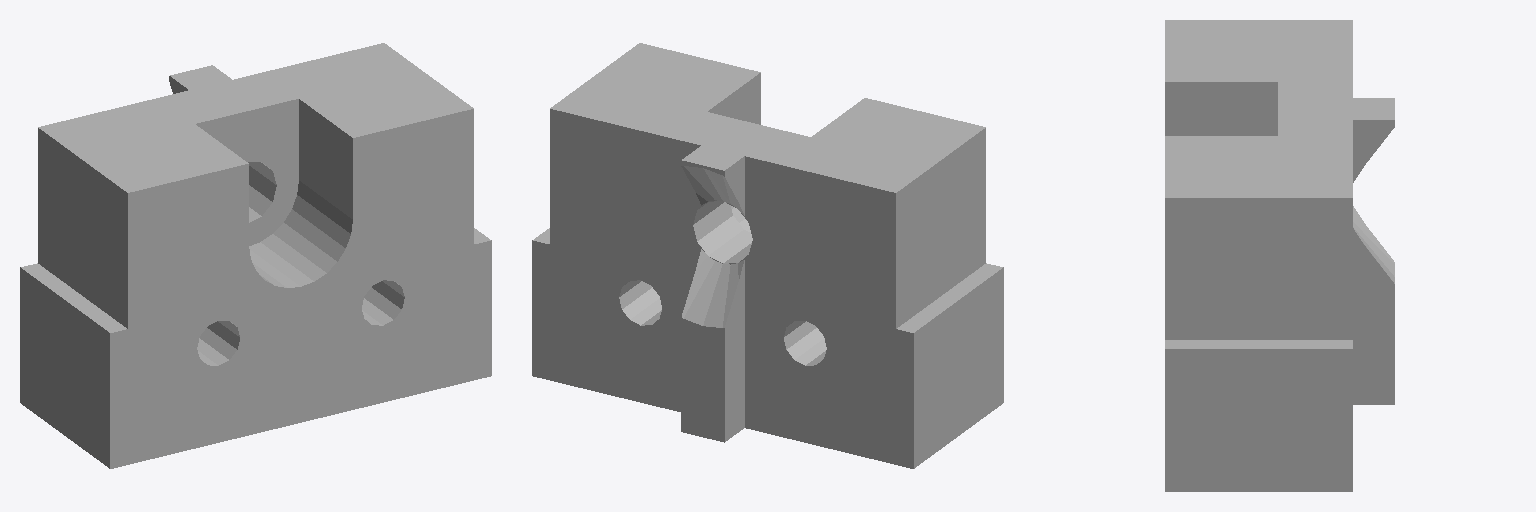
robot.urdf — root:
<?xml version='1.0' encoding='utf-8'?>
<robot name="root">
  <link name="link_001">
    <visual>
      <origin xyz="0 0 0" rpy="0 0 0" />
      <geometry>
        <mesh filename="3f989d46efecab75002a96b3d218b07a493d441307984a374a6fcfa848e1d944_scale_001.stl" scale="1.0000E+00 1.0000E+00 1.0000E+00" />
      </geometry>
      <material name="">
        <color rgba="7.50E-01 7.50E-01 7.50E-01 1" />
      </material>
    </visual>
    <collision>
      <origin xyz="0 0 0" rpy="0 0 0" />
      <geometry>
        <mesh filename="3f989d46efecab75002a96b3d218b07a493d441307984a374a6fcfa848e1d944_scale_001.stl" scale="1.0000E+00 1.0000E+00 1.0000E+00" />
      </geometry>
    </collision>
  </link>
</robot>

--- Facts derived from the render (not from the file) ---
Views: 3 orthographic renders of the robot side by side, from view 1: azimuth 30°, elevation 25°; view 2: azimuth 150°, elevation 25°; view 3: azimuth 270°, elevation 25°.
Model root with 1 links and 0 joints (none), rooted at link_001, posed every joint at zero.
Links seen in each view (by area): view 1: link_001; view 2: link_001; view 3: link_001.
Link boxes in pixels (x1,y1,x2,y2): link_001: [20, 43, 491, 468]; link_001: [532, 43, 1003, 468]; link_001: [1165, 20, 1394, 491].
Bounding box of the posed robot: 0.12 × 0.06 × 0.0818 m (x, y, z).
1 mesh visuals loaded from 1 distinct referenced files (1 binary STL).
